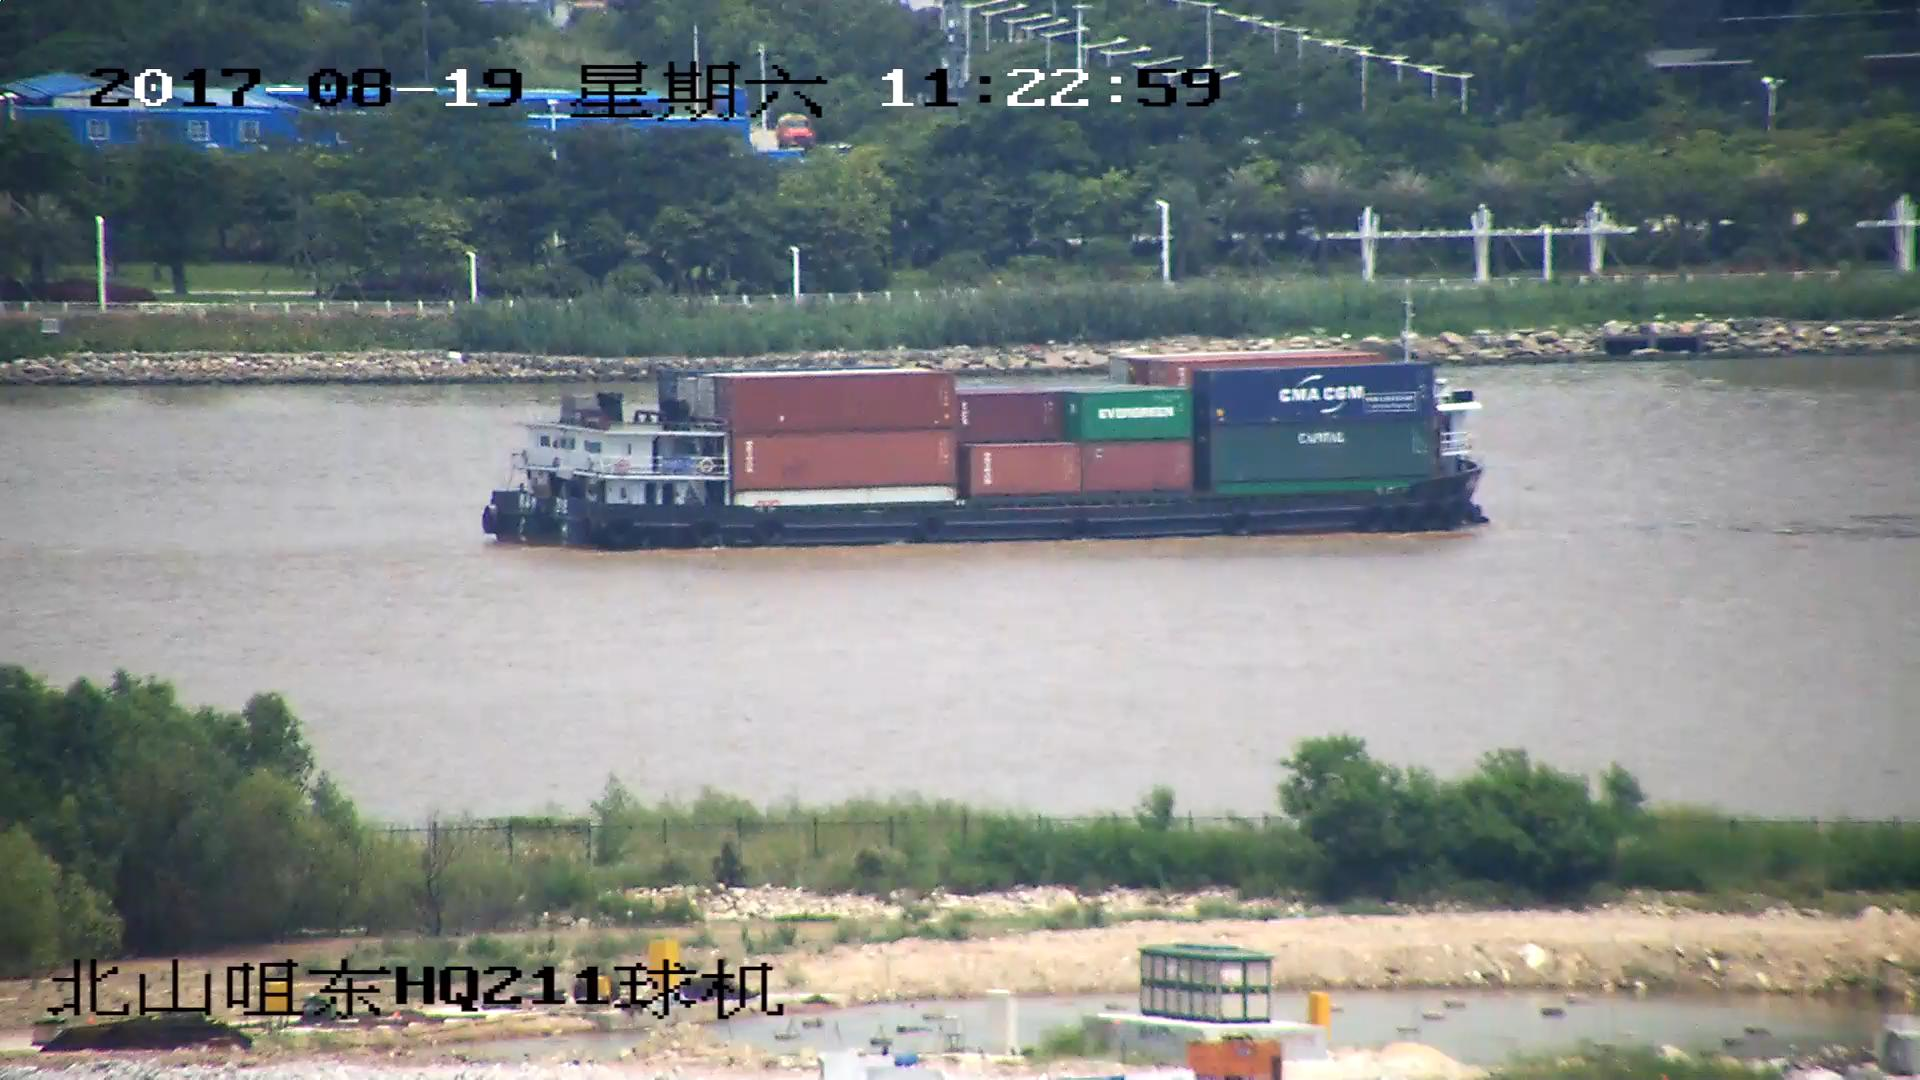container ship: (482, 310, 1491, 549)
